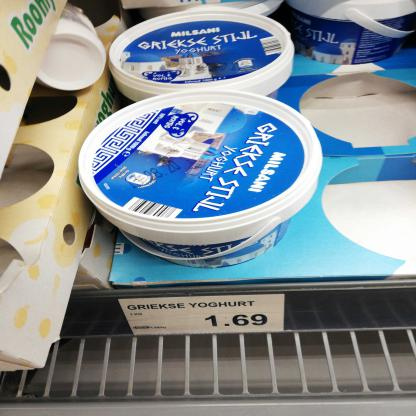prtg: (119, 295, 285, 336)
